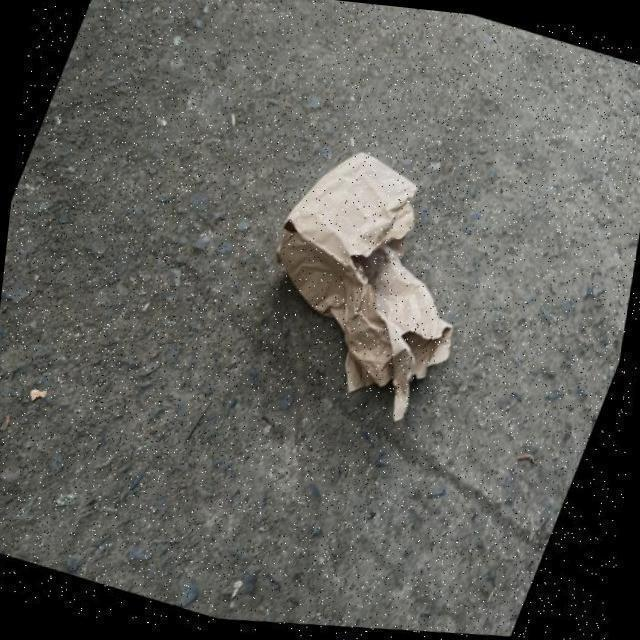Paper_Bag: (224, 122, 517, 452)
